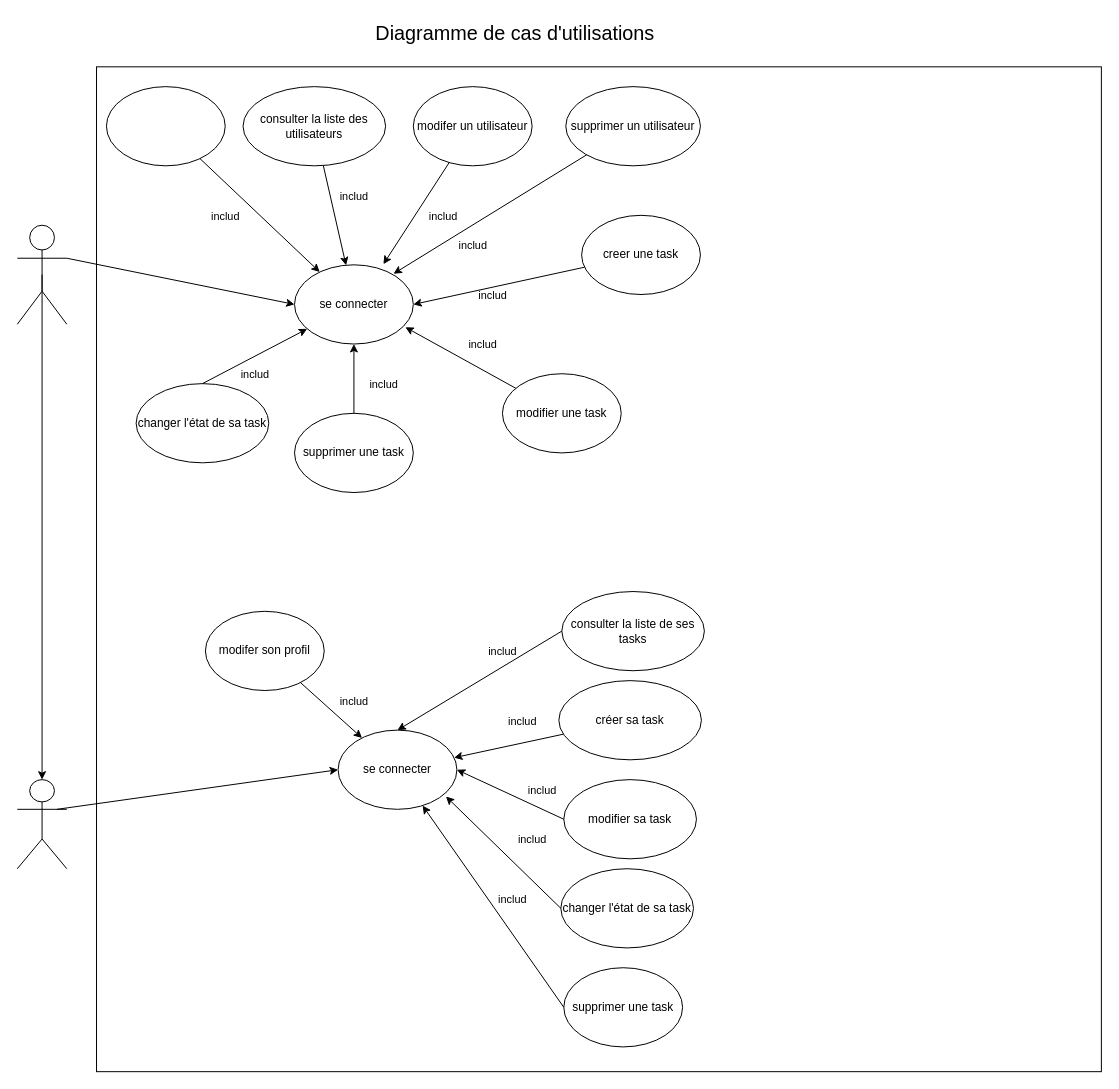
Image size: 1119x1089. Some labels were removed from this diagram. Here are the shapes that lost their labels. From the top down, the box of each, then its label:
(105, 86, 225, 166): creer un utilisateur
(16, 224, 67, 324): admin
(16, 779, 67, 869): utilisateur
